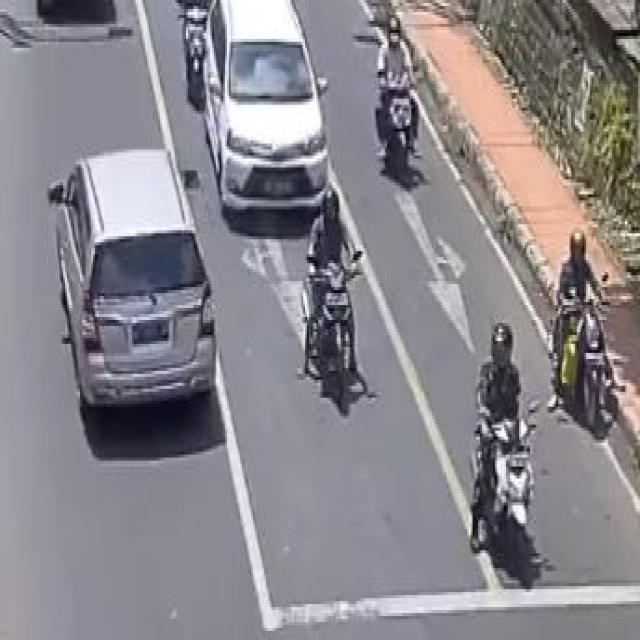car: (59, 151, 219, 445), (198, 0, 333, 201)
motorbike: (464, 312, 538, 603), (368, 12, 442, 190), (309, 201, 361, 415), (564, 229, 609, 437)
